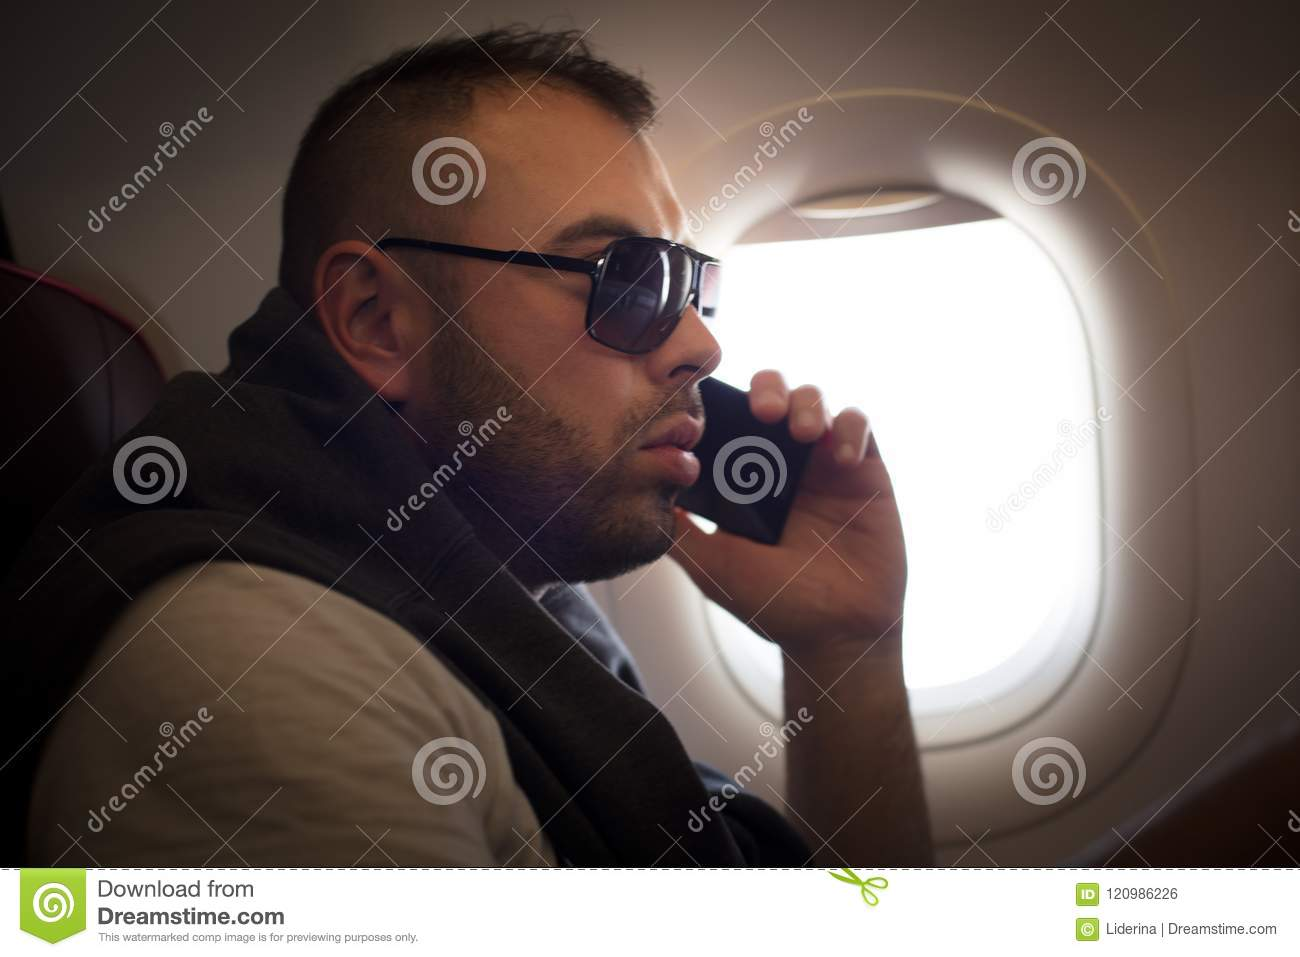phone: (689, 370, 816, 553)
talk: (497, 190, 912, 659)
